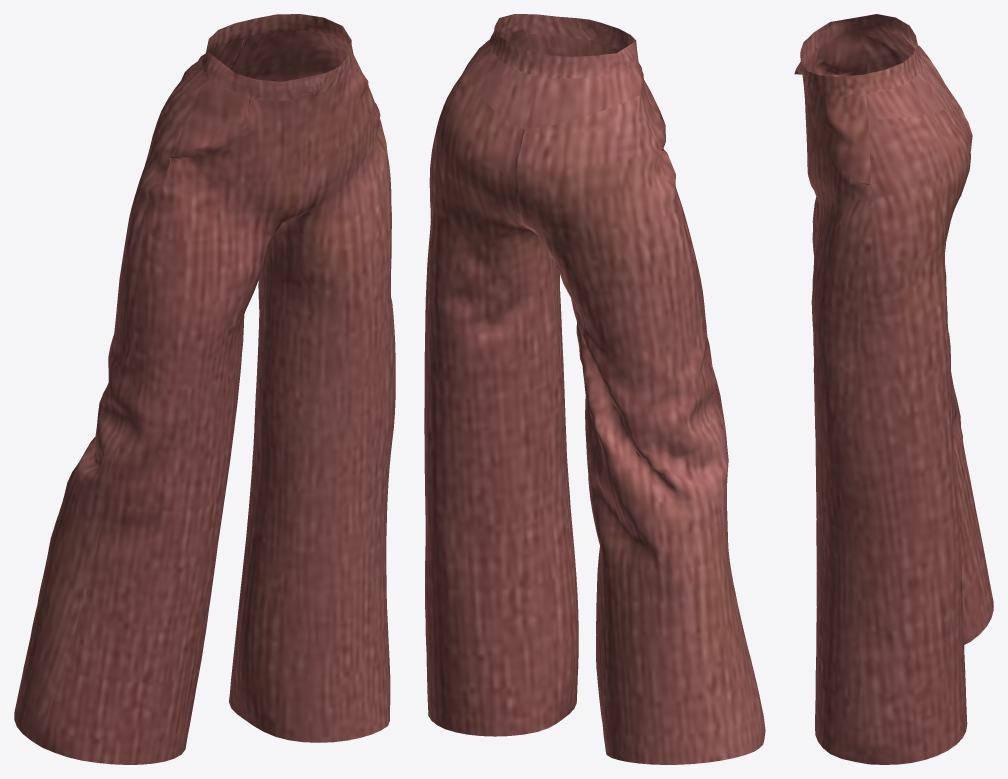
The model's file is Broek roze + texture.fbx.
The picture shows the model from 3 angles, left to right: view 1: azimuth 30°, elevation 25°; view 2: azimuth 150°, elevation 25°; view 3: azimuth 270°, elevation 25°; orthographic projection. The views are drawn at different scales.
Visible parts, largest first — view 1: roze broek zonder naden; view 2: roze broek zonder naden; view 3: roze broek zonder naden.
Boxes of the visible parts, x1,y1,x2,y2 form: roze broek zonder naden: (14, 14, 395, 764); roze broek zonder naden: (424, 14, 765, 764); roze broek zonder naden: (794, 14, 993, 764).
Size of the model in its own units: 51.42 by 100 by 26.9.
1 material, 1 textured.
